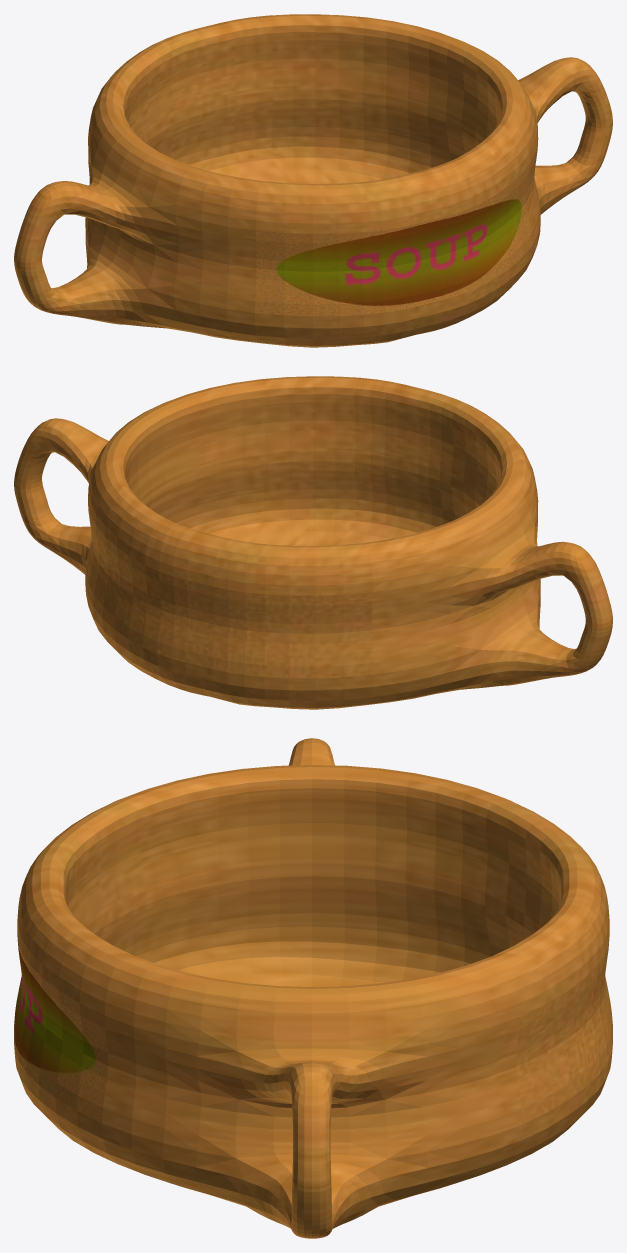
Rendered from dish1.obj.
3 views of the same model, one above another, from view 1: azimuth 30°, elevation 25°; view 2: azimuth 150°, elevation 25°; view 3: azimuth 270°, elevation 25° (orthographic). The views are drawn at different scales.
Visible parts, largest first — view 1: CurveCircle_Mesh; view 2: CurveCircle_Mesh; view 3: CurveCircle_Mesh.
Boxes of the visible parts, bbox=[...] form: CurveCircle_Mesh: bbox=[14, 14, 612, 347]; CurveCircle_Mesh: bbox=[14, 376, 612, 709]; CurveCircle_Mesh: bbox=[14, 738, 612, 1238].
Bounding box in the file's own units: 0.1521 × 0.0424 × 0.1013.
